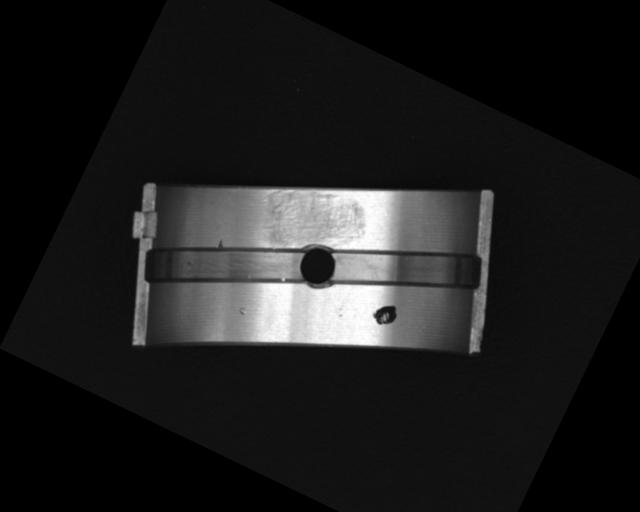blot: (369, 297, 402, 330)
bruise: (213, 237, 227, 253), (236, 305, 248, 317)
gap: (140, 189, 320, 345), (317, 189, 493, 343)
hole: (285, 235, 347, 297)
scratch: (248, 164, 379, 282)
